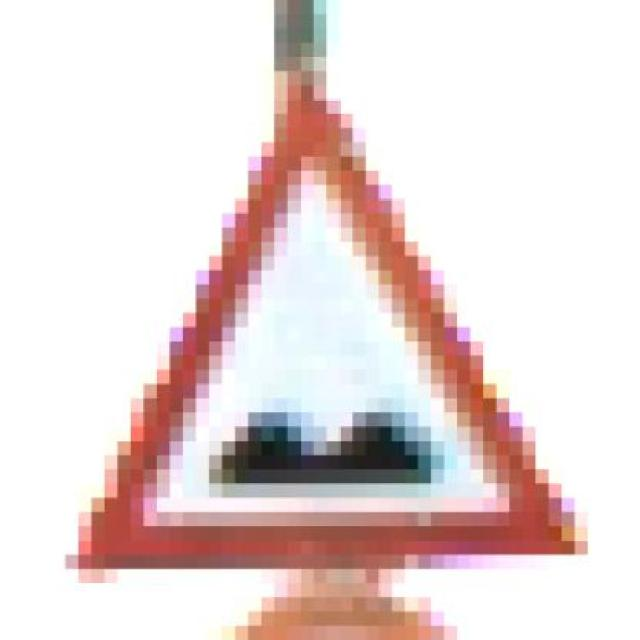Uneven Road: (66, 76, 588, 589)
